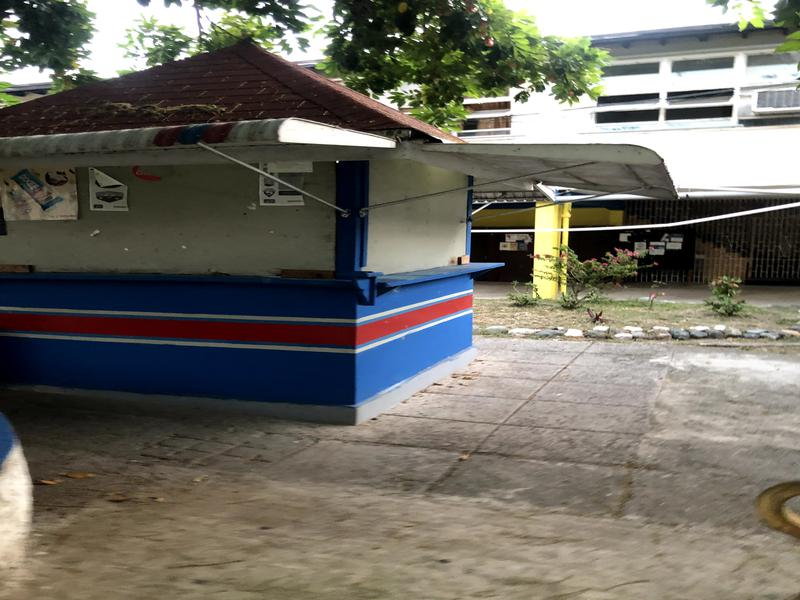18.0050609_-76.7496662_auntyjackie: (1, 40, 524, 462)
